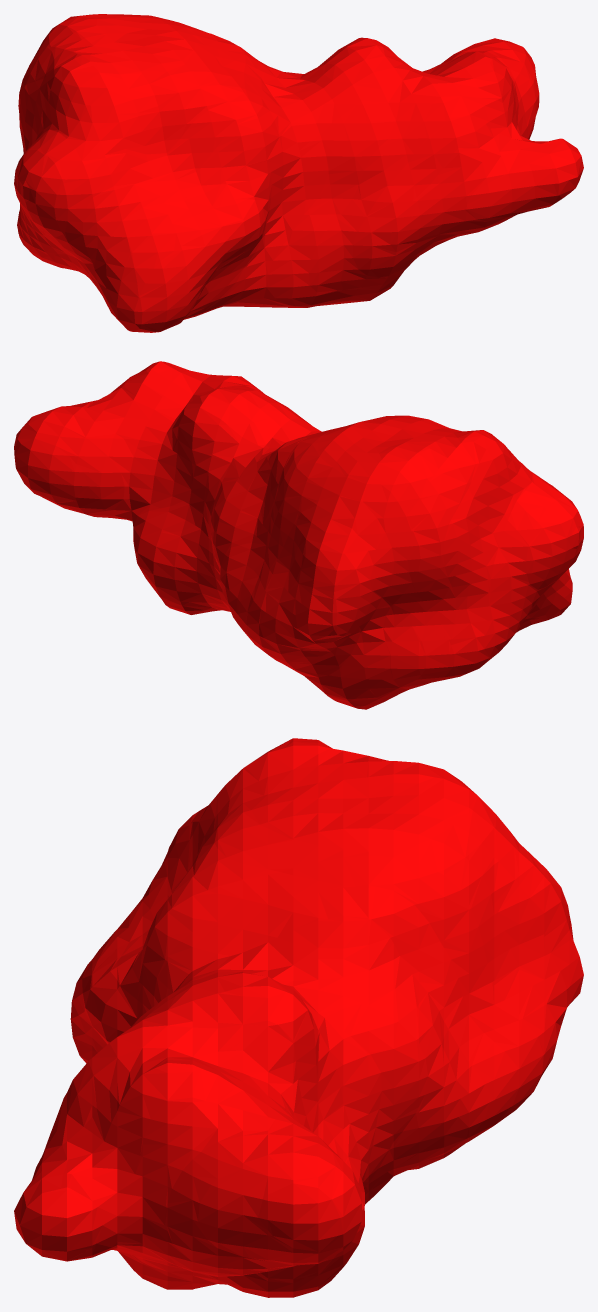
The model's file is Dystroglycan_1_coarse.dae.
3 views of the same model, one above another, from view 1: azimuth 30°, elevation 25°; view 2: azimuth 150°, elevation 25°; view 3: azimuth 270°, elevation 25° (orthographic). The views are drawn at different scales.
Parts seen in each view (by area): view 1: Dystroglycan_1; view 2: Dystroglycan_1; view 3: Dystroglycan_1.
Boxes of the visible parts, x1=… form: Dystroglycan_1: x1=14, y1=14, x2=583, y2=332; Dystroglycan_1: x1=14, y1=361, x2=583, y2=709; Dystroglycan_1: x1=14, y1=738, x2=583, y2=1297.
Bounding box in the file's own units: 78 × 37.38 × 50.73.
